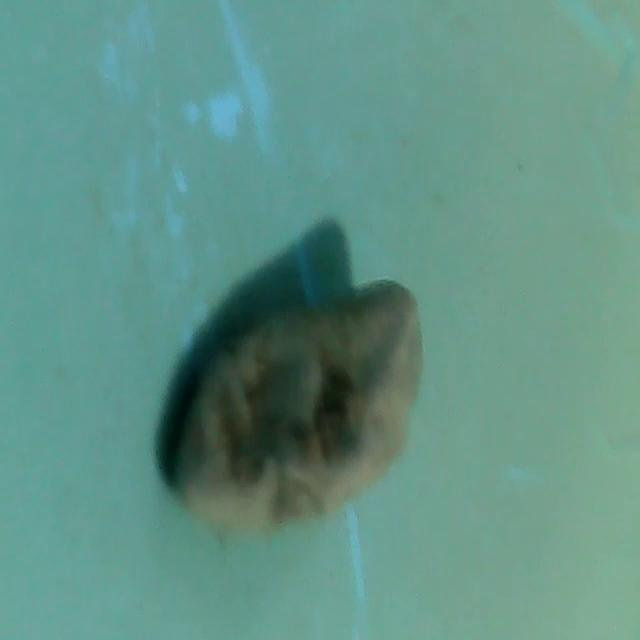rock: (162, 274, 433, 546)
